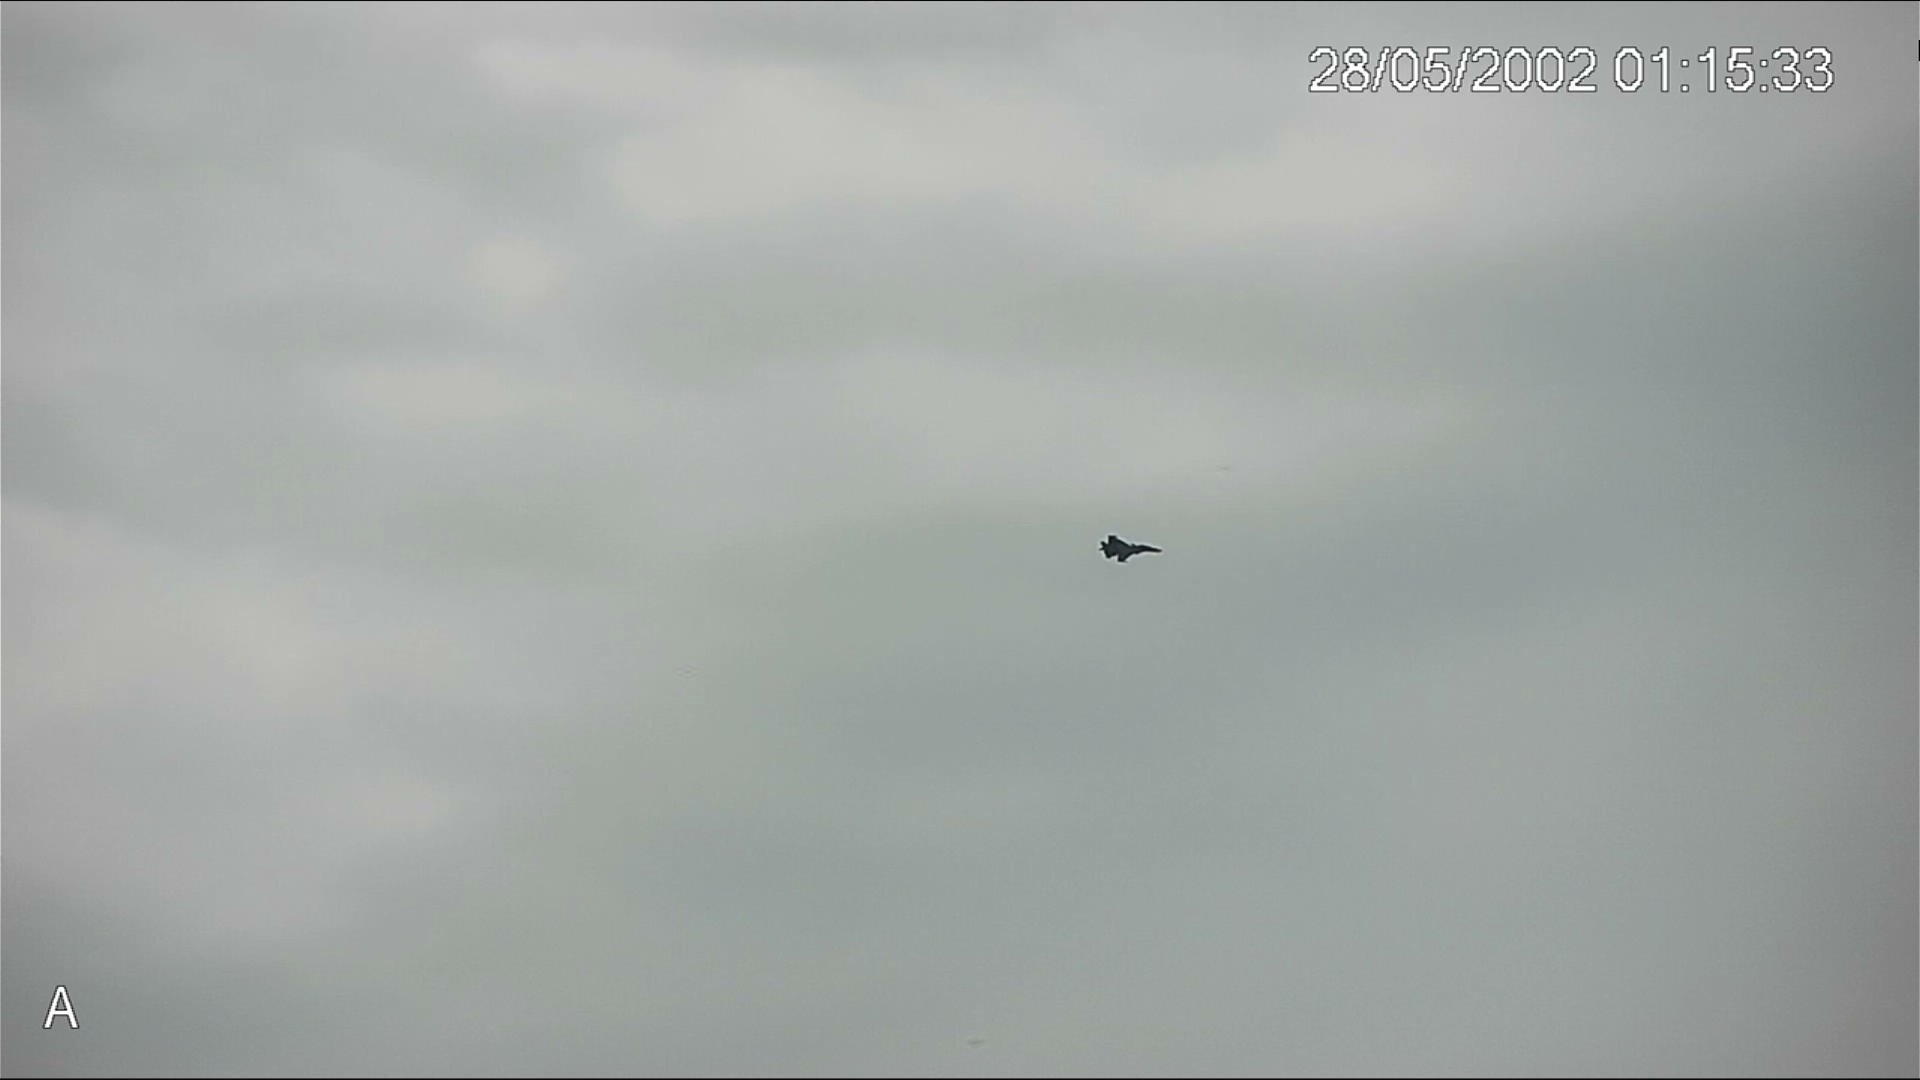SU_30: (1095, 534, 1163, 564)
